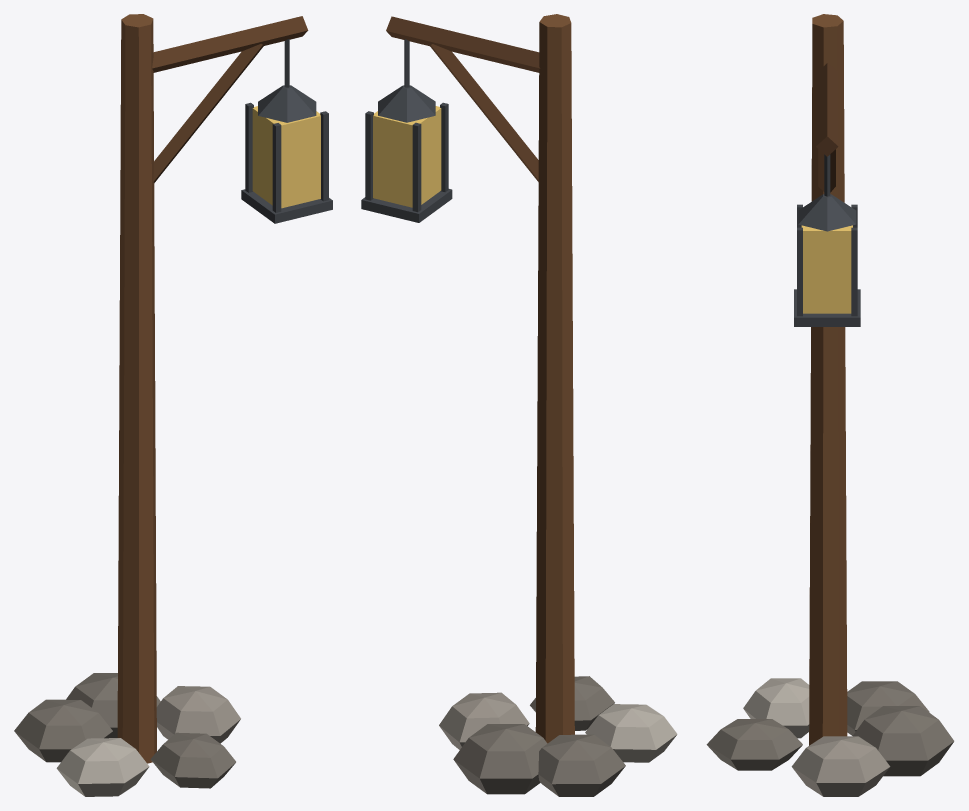
The model's file is lantern_wood.glb.
3 renders of one model, left to right at view 1: azimuth 30°, elevation 25°; view 2: azimuth 150°, elevation 25°; view 3: azimuth 270°, elevation 25°, orthographic.
Parts seen in each view (by area): view 1: road_lantern_wood; view 2: road_lantern_wood; view 3: road_lantern_wood.
Part boxes in pixels (x1=…): road_lantern_wood: x1=14, y1=14, x2=332, y2=796; road_lantern_wood: x1=361, y1=14, x2=677, y2=796; road_lantern_wood: x1=706, y1=14, x2=954, y2=796.
Bounding box in the file's own units: 1.23 × 3.25 × 0.9816.
